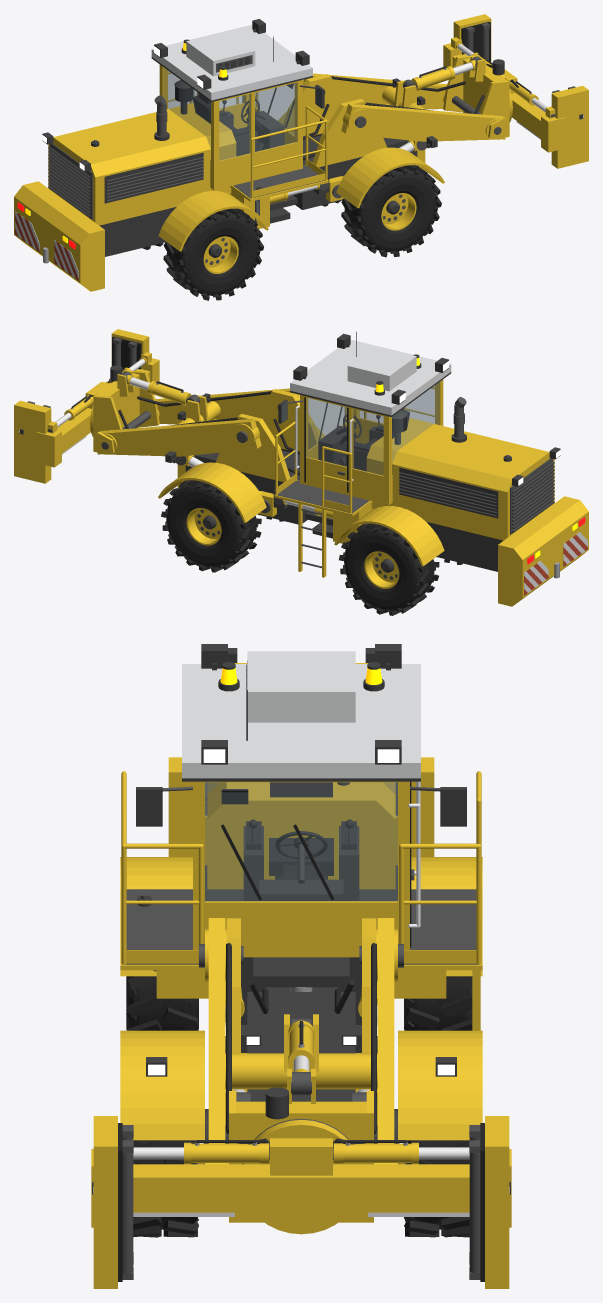
File: tyre_handler.glb
3 views of the same model, one above another, from view 1: azimuth 30°, elevation 25°; view 2: azimuth 150°, elevation 25°; view 3: azimuth 270°, elevation 25° (orthographic). The views are drawn at different scales.
Parts seen in each view (by area): view 1: rear_frame, cab, hitch_rotate, arm_tilt, wheel_rear_right_spin, wheel_front_right_spin, gripper_tilt, pad_right_slide, pad_left_slide, gripper_rotate, gripper_tilt_cylinder_rotate; view 2: rear_frame, cab, hitch_rotate, arm_tilt, wheel_rear_left_spin, wheel_front_left_spin, gripper_tilt, pad_left_slide, pad_right_slide, gripper_rotate, gripper_tilt_cylinder_rotate; view 3: cab, rear_frame, hitch_rotate, gripper_rotate, arm_tilt, pad_right_slide, pad_left_slide, gripper_tilt, wheel_rear_right_spin, wheel_rear_left_spin, wheel_front_right_spin, wheel_front_left_spin (+3 smaller).
Part boxes in pixels (box(x1,y1,x2,y2)): rear_frame: box(14, 71, 328, 291); cab: box(151, 19, 324, 190); hitch_rotate: box(270, 74, 444, 210); arm_tilt: box(303, 73, 506, 150); wheel_rear_right_spin: box(163, 208, 263, 300); wheel_front_right_spin: box(341, 165, 441, 257); gripper_tilt: box(443, 54, 509, 139); pad_right_slide: box(541, 85, 588, 168); pad_left_slide: box(443, 14, 491, 67); gripper_rotate: box(452, 54, 545, 139); gripper_tilt_cylinder_rotate: box(403, 66, 455, 90); rear_frame: box(274, 386, 588, 606); cab: box(278, 331, 451, 504); hitch_rotate: box(158, 389, 332, 525); arm_tilt: box(96, 388, 299, 465); wheel_rear_left_spin: box(339, 523, 439, 615); wheel_front_left_spin: box(161, 480, 261, 572); gripper_tilt: box(93, 365, 159, 454); pad_left_slide: box(14, 400, 61, 483); pad_right_slide: box(111, 329, 159, 382); gripper_rotate: box(57, 369, 150, 454); gripper_tilt_cylinder_rotate: box(147, 381, 199, 405); cab: box(136, 644, 466, 957); rear_frame: box(120, 648, 482, 1030); hitch_rotate: box(120, 918, 482, 1143); gripper_rotate: box(133, 1119, 469, 1234); arm_tilt: box(199, 918, 403, 1164); pad_right_slide: box(91, 1116, 133, 1288); pad_left_slide: box(469, 1116, 511, 1288); gripper_tilt: box(196, 1069, 406, 1222); wheel_rear_right_spin: box(126, 976, 198, 1030); wheel_rear_left_spin: box(404, 976, 472, 1030); wheel_front_right_spin: box(133, 1140, 198, 1237); wheel_front_left_spin: box(404, 1140, 469, 1237).
Bounding box in the file's own units: 9.44 × 4.06 × 3.48.
Materials: 17 (17 with a texture image).
